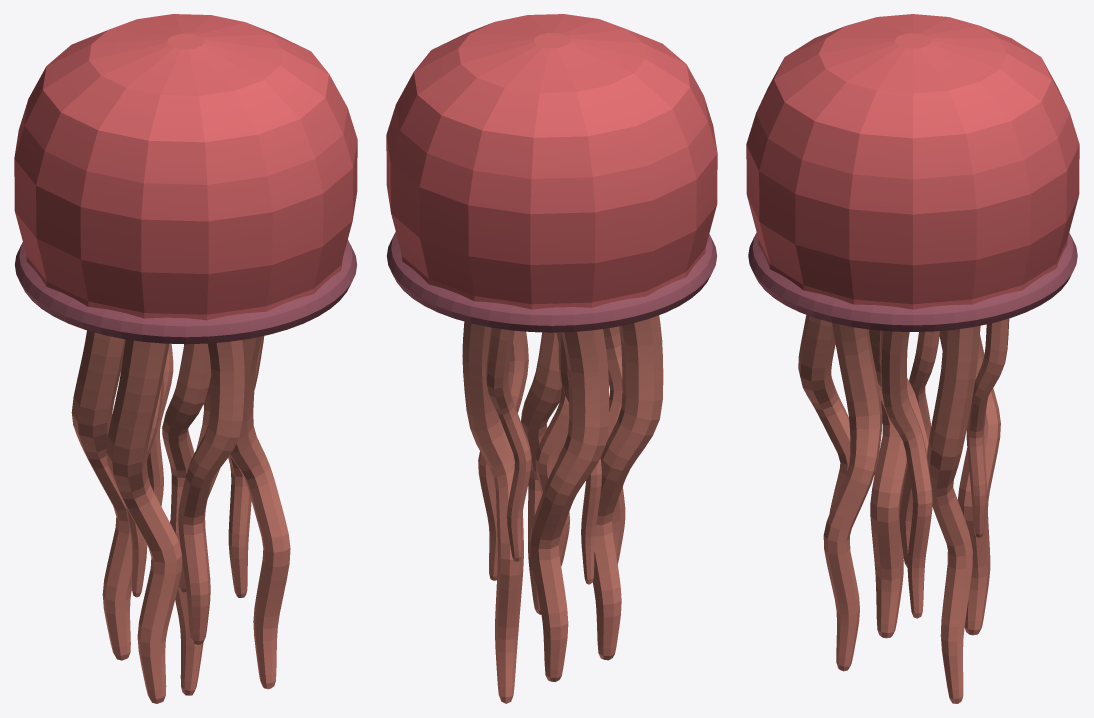
The model's file is jellyfish.glb.
3 renders of one model, left to right at view 1: azimuth 30°, elevation 25°; view 2: azimuth 150°, elevation 25°; view 3: azimuth 270°, elevation 25°, orthographic. The views are drawn at different scales.
Parts seen in each view (by area): view 1: jellyfish_merged; view 2: jellyfish_merged; view 3: jellyfish_merged.
Boxes of the visible parts, left/top/right/bottom form: jellyfish_merged: left=14, top=14, right=357, bottom=703; jellyfish_merged: left=386, top=14, right=717, bottom=703; jellyfish_merged: left=746, top=14, right=1079, bottom=703.
Size of the model in its own units: 2.34 by 5.04 by 2.34.
1 material, 1 textured.
